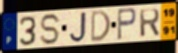3: (18, 15, 38, 47)
D: (90, 9, 112, 44)
J: (68, 11, 88, 44)
P: (116, 7, 138, 42)
R: (138, 8, 161, 39)
S: (39, 12, 63, 46)
